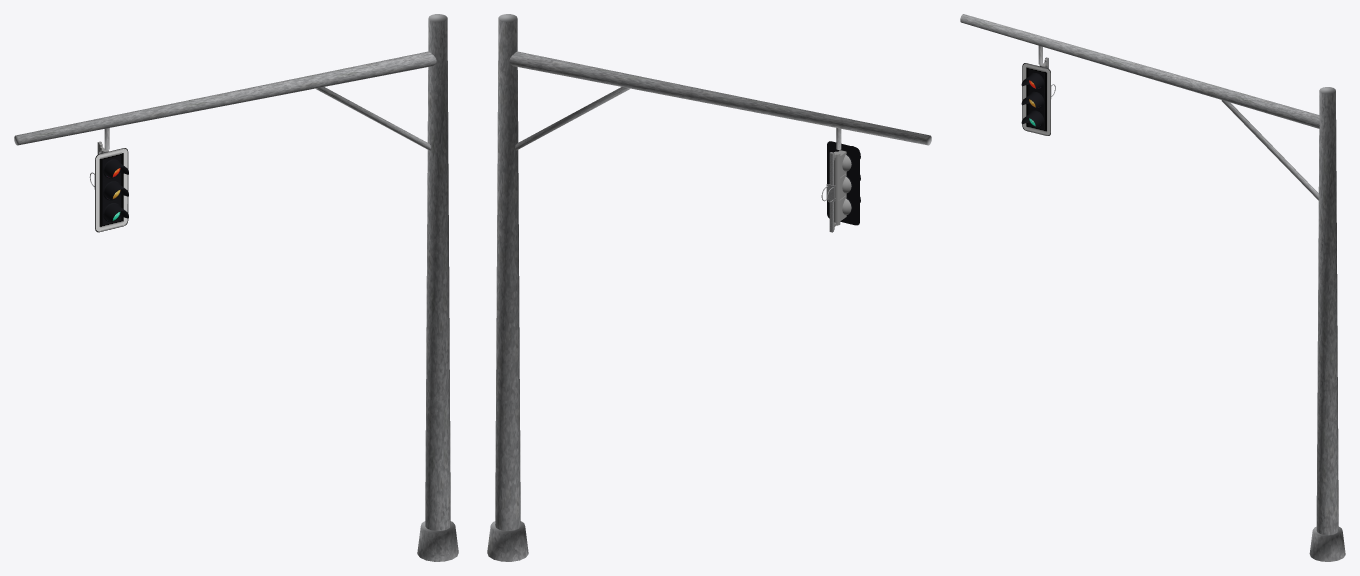
The model's file is traffic_signal.glb.
3 views of the same model, side by side, from view 1: azimuth 30°, elevation 25°; view 2: azimuth 150°, elevation 25°; view 3: azimuth 330°, elevation 25° (orthographic). The views are drawn at different scales.
Parts seen in each view (by area): view 1: tube, tube.001, BezierCurve.012_BezierCurve.017, tube.004, tube.002; view 2: tube, tube.001, BezierCurve.012_BezierCurve.017, tube.004, tube.002; view 3: tube, tube.001, BezierCurve.012_BezierCurve.017, tube.004, tube.002.
Boxes of the visible parts, x1,y1,x2,y2 form: tube: [425, 14, 450, 530]; tube.001: [14, 51, 436, 145]; BezierCurve.012_BezierCurve.017: [89, 141, 128, 232]; tube.004: [417, 521, 458, 561]; tube.002: [316, 87, 430, 150]; tube: [495, 14, 520, 530]; tube.001: [509, 51, 931, 145]; BezierCurve.012_BezierCurve.017: [821, 141, 860, 232]; tube.004: [487, 521, 528, 561]; tube.002: [515, 87, 629, 150]; tube: [1316, 87, 1338, 535]; tube.001: [960, 14, 1319, 128]; BezierCurve.012_BezierCurve.017: [1021, 57, 1055, 135]; tube.004: [1309, 526, 1345, 561]; tube.002: [1221, 100, 1318, 200].
Bounding box in the file's own units: 5.84 × 6.8 × 0.6636.
8 materials, 8 textured.
